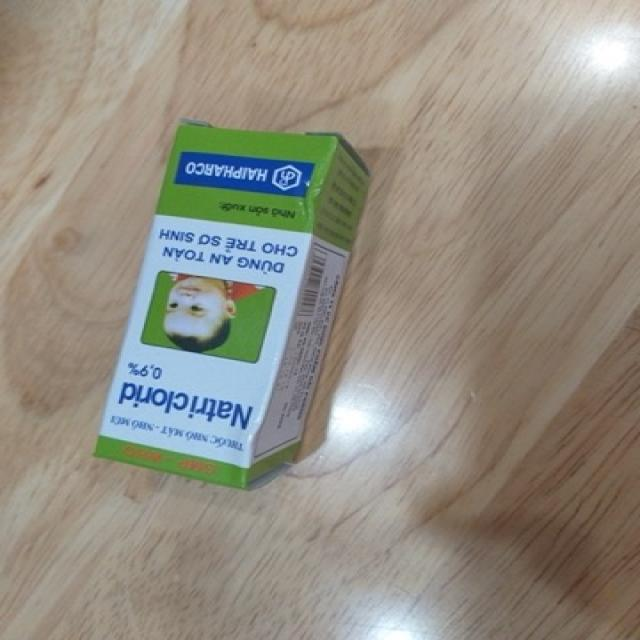PaperCardboard: (93, 120, 380, 493)
